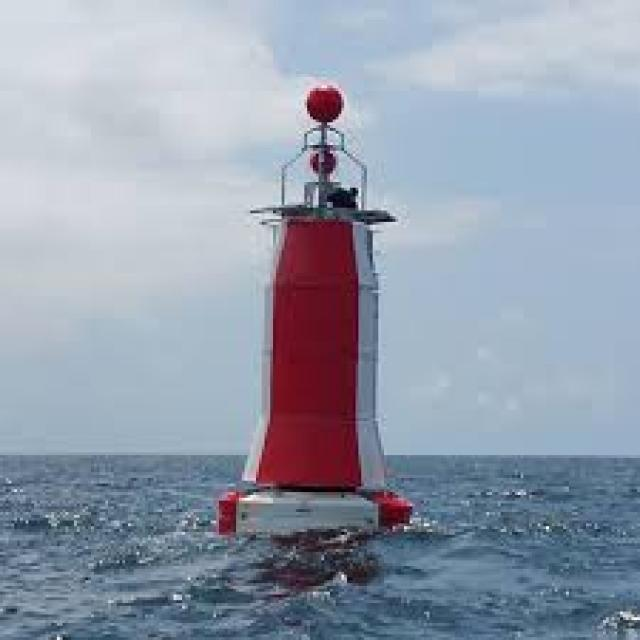marque: (195, 56, 431, 552)
